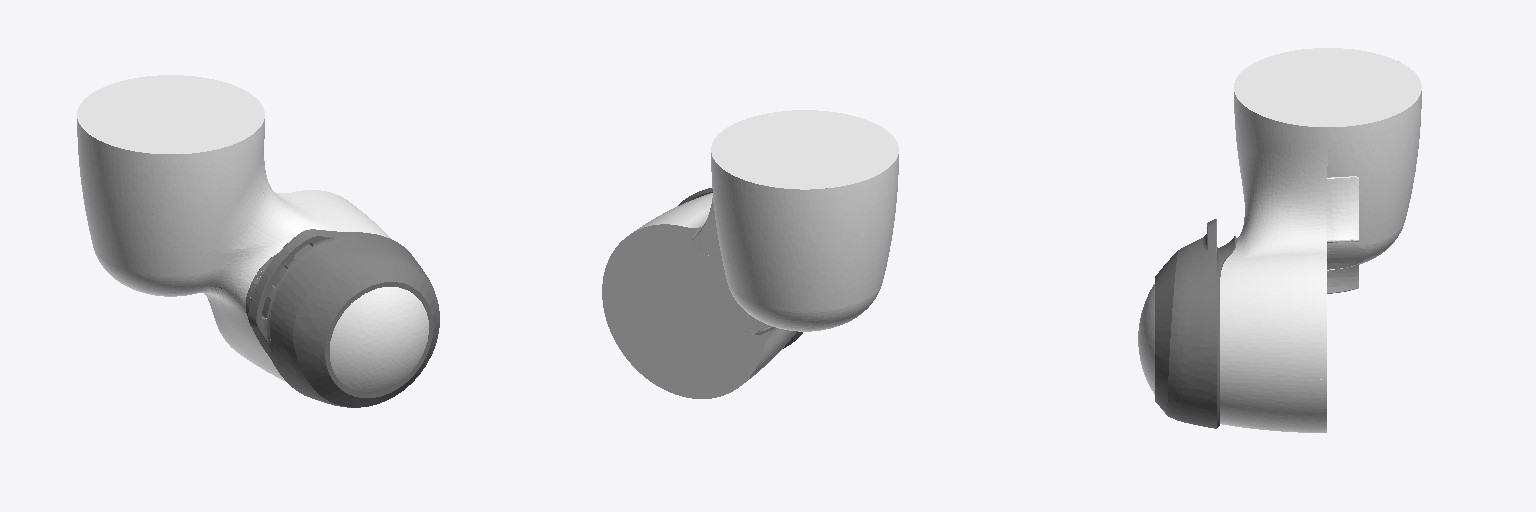
3 views of the same model, side by side, from view 1: azimuth 30°, elevation 25°; view 2: azimuth 150°, elevation 25°; view 3: azimuth 270°, elevation 25° (orthographic).
Parts seen in each view (by area): view 1: node3; view 2: node3; view 3: node3.
Boxes of the visible parts, box(x1,y1,x2,y2) form: node3: box(77, 75, 439, 407); node3: box(602, 110, 898, 398); node3: box(1138, 48, 1421, 432).
Size of the model in its own units: 0.1925 by 0.179 by 0.1661.
Materials: 4 (1 with a texture image).